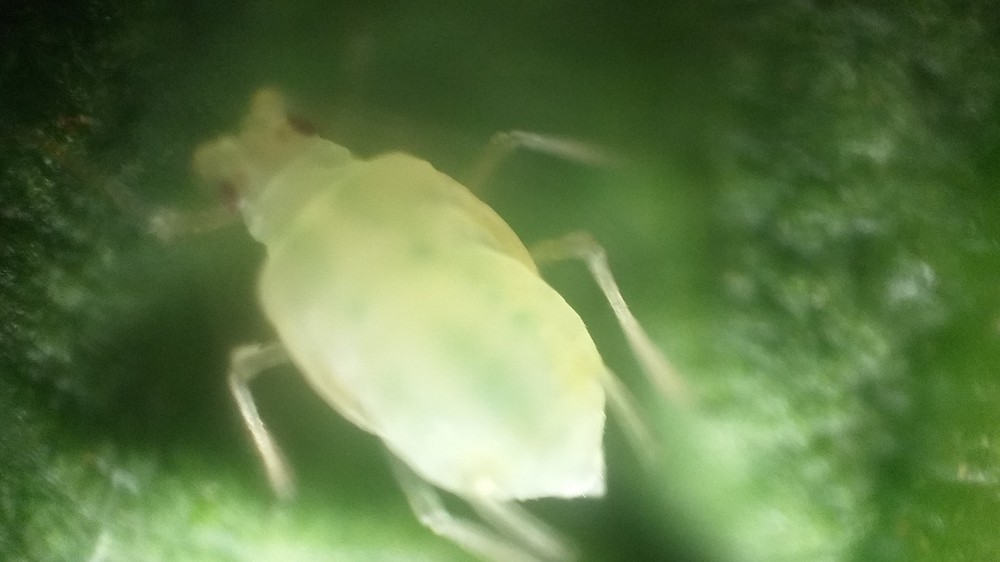Pulgon: (107, 44, 746, 554)
